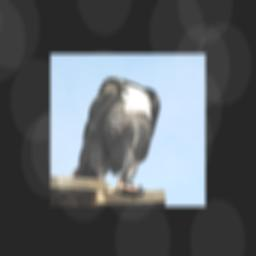Crow: (69, 74, 162, 195)
